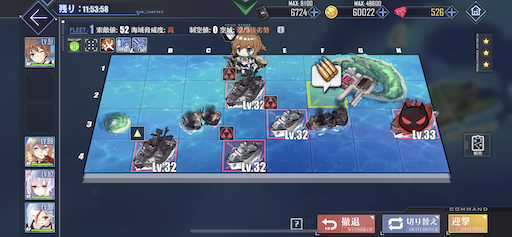lv1: (128, 123, 178, 172)
lv3: (219, 124, 268, 172), (390, 94, 438, 143), (219, 62, 266, 108), (269, 96, 309, 141)
